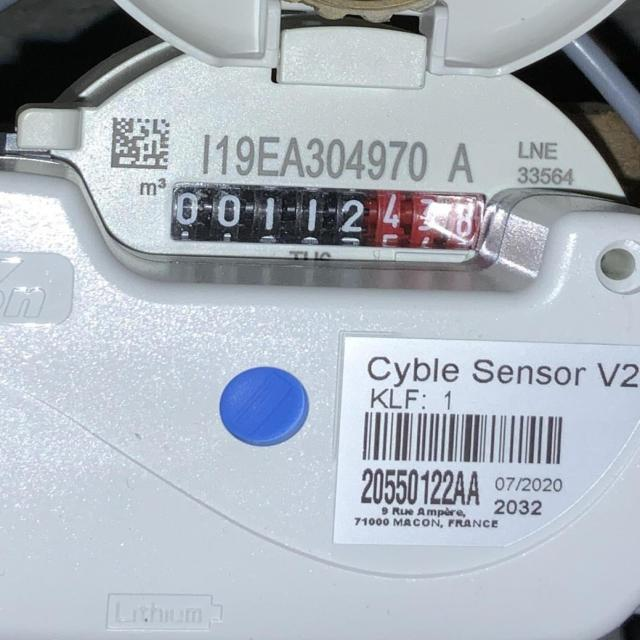gaz_meter: (31, 24, 631, 316)
indication: (171, 187, 481, 249)
